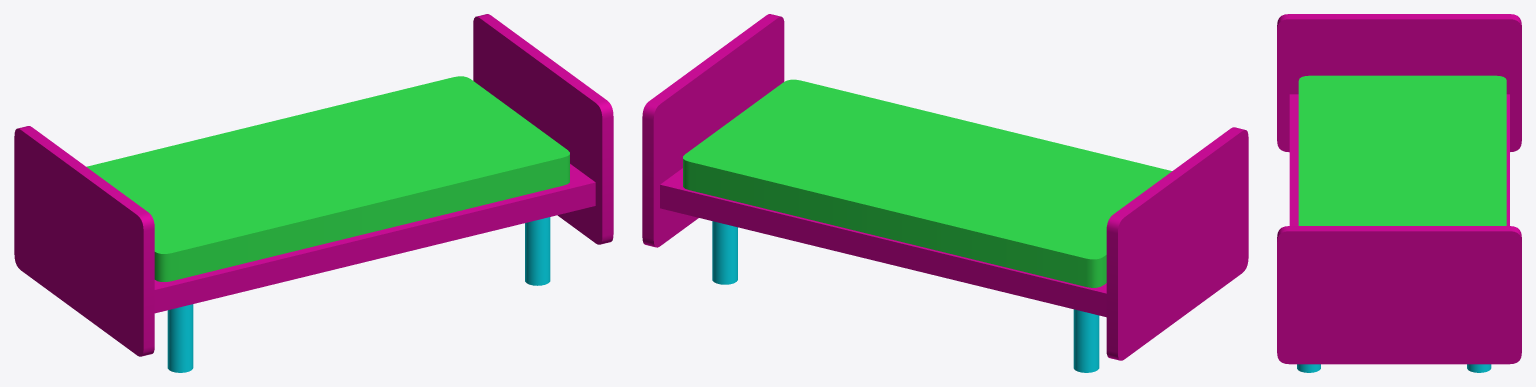
The model's file is bed_with_corpse.fbx.
The picture shows the model from 3 angles, left to right: view 1: azimuth 30°, elevation 25°; view 2: azimuth 150°, elevation 25°; view 3: azimuth 270°, elevation 25°; orthographic projection. The views are drawn at different scales.
Visible parts, largest first — view 1: CAMA; view 2: CAMA; view 3: CAMA.
Part boxes in pixels (left/top/right/bottom): CAMA: left=14, top=14, right=613, bottom=372; CAMA: left=642, top=14, right=1248, bottom=372; CAMA: left=1277, top=14, right=1521, bottom=372.
Size of the model in its own units: 210 by 73.95 by 100.
